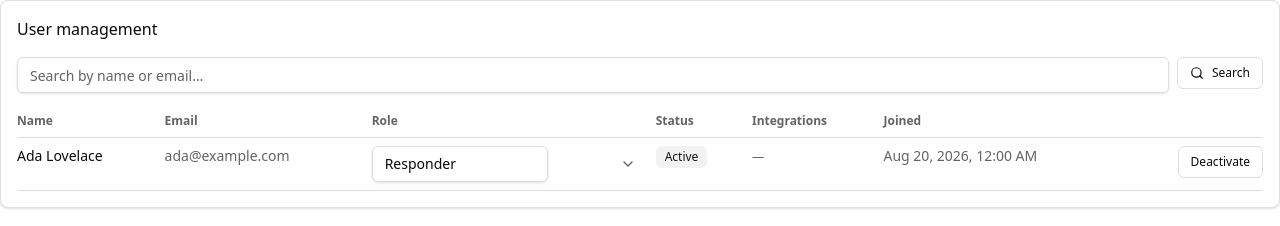
Test: AdminUsersPage › deactivates and reactivates a user
Check: the text "Ada Lovelace" is shown, box [17,138,165,190]
Click the button "Deactivate".
click(1220, 162)  # box [1178,146,1263,178]
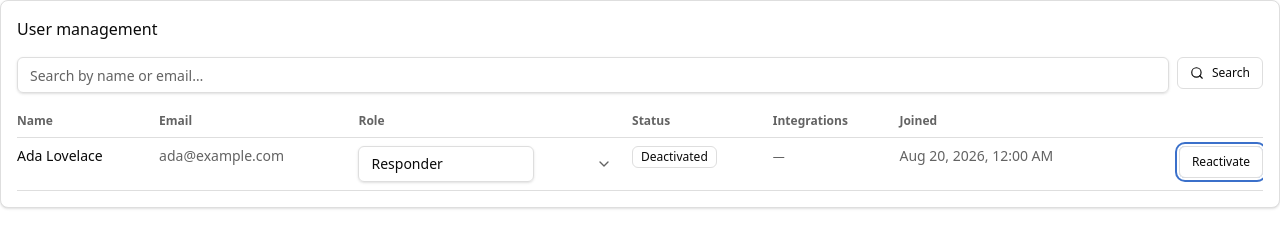
Check: the button "Reactivate" is shown, box [1179,146,1263,178]
